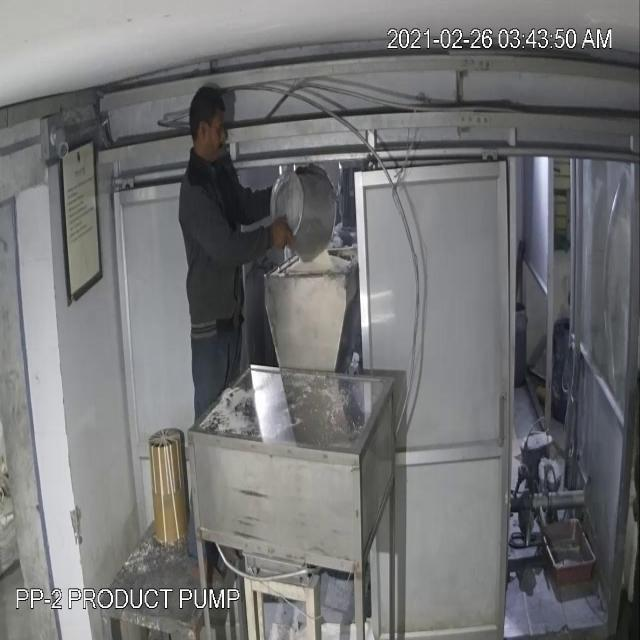no-helmet: (188, 84, 228, 172)
